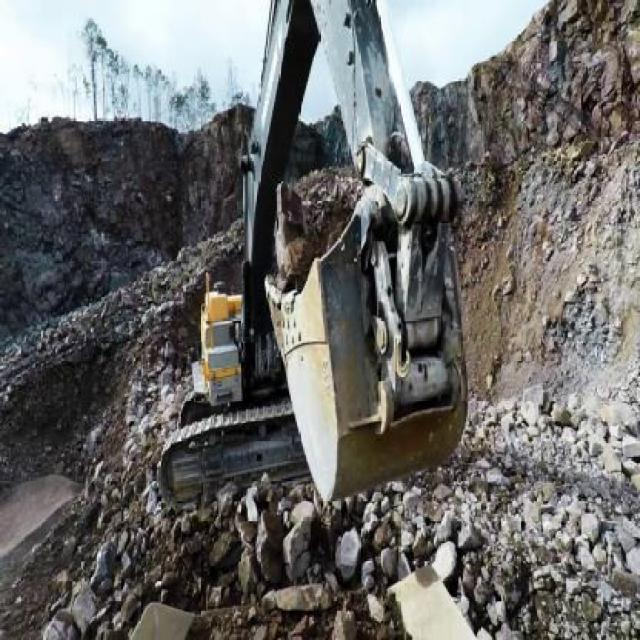Excavator: (154, 0, 472, 509)
